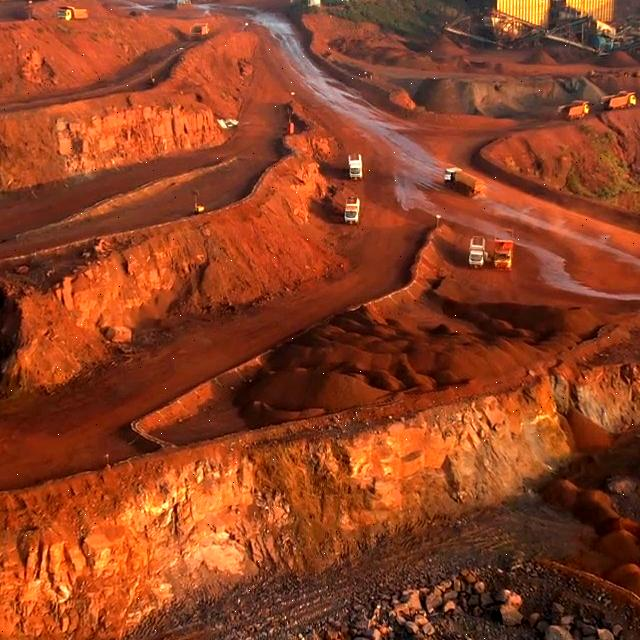Dumper truck: (554, 100, 592, 120), (606, 90, 640, 106), (57, 7, 90, 22), (191, 24, 211, 39)
car: (346, 152, 365, 180), (470, 238, 487, 267), (344, 196, 361, 221)
